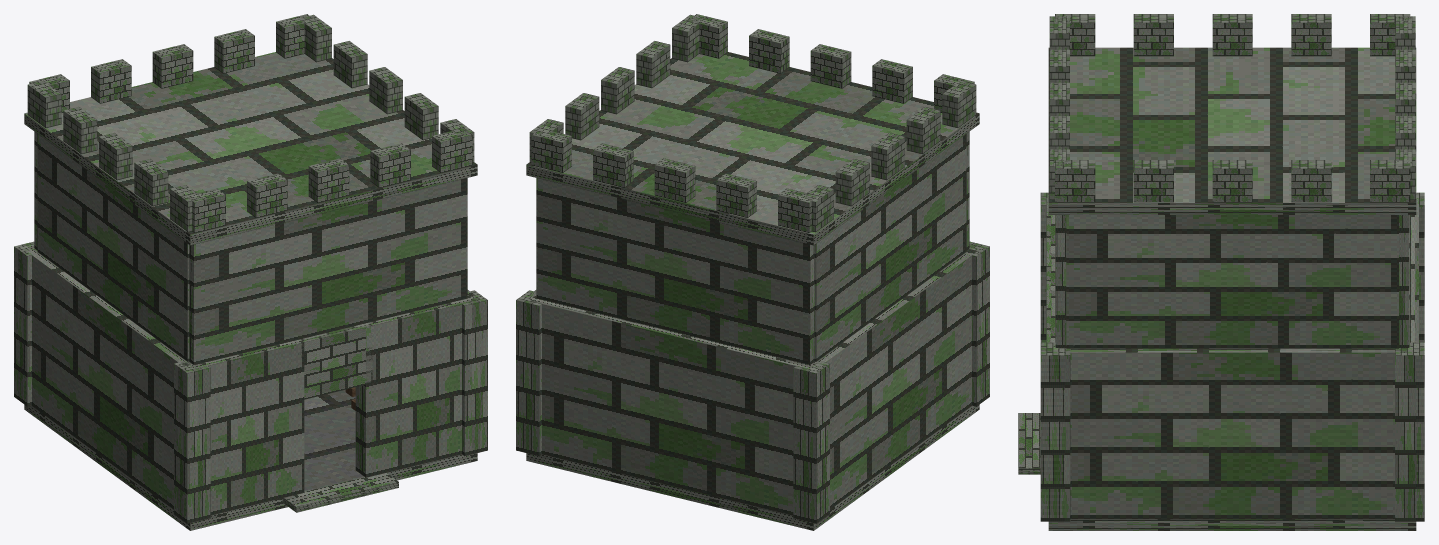
File: torre_vazia.glb
3 renders of one model, left to right at view 1: azimuth 30°, elevation 25°; view 2: azimuth 150°, elevation 25°; view 3: azimuth 270°, elevation 25°, orthographic. The views are drawn at different scales.
Parts seen in each view (by area): view 1: Roof_Upper_Tower, Walls_Lower, Floor_Ground; view 2: Roof_Upper_Tower, Walls_Lower, Floor_Ground; view 3: Roof_Upper_Tower, Walls_Lower, Floor_Ground.
Boxes of the visible parts, bbox=[...] form: Roof_Upper_Tower: bbox=[24, 14, 477, 364]; Walls_Lower: bbox=[14, 241, 487, 523]; Floor_Ground: bbox=[24, 389, 477, 530]; Roof_Upper_Tower: bbox=[526, 14, 979, 364]; Walls_Lower: bbox=[516, 241, 989, 523]; Floor_Ground: bbox=[526, 404, 979, 530]; Roof_Upper_Tower: bbox=[1048, 14, 1416, 348]; Walls_Lower: bbox=[1040, 192, 1424, 521]; Floor_Ground: bbox=[1018, 413, 1416, 530].
Size of the model in its own units: 8.78 by 9.13 by 9.29.
1 material, 1 textured.
